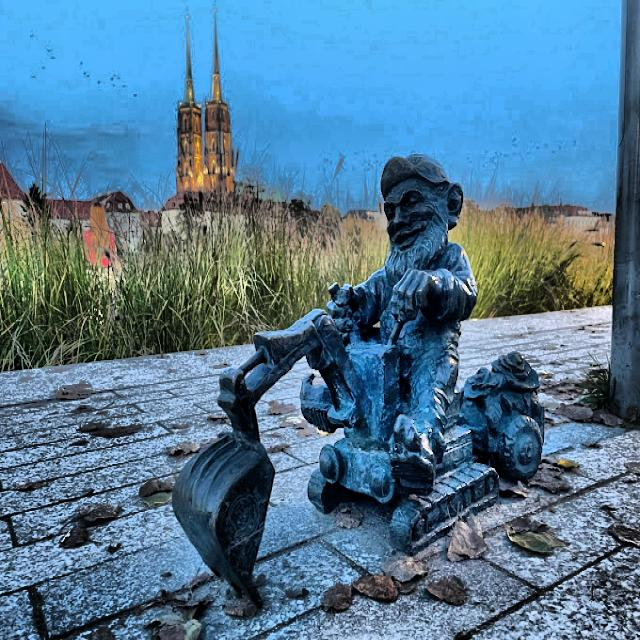Koparkus: (174, 155, 544, 604)
